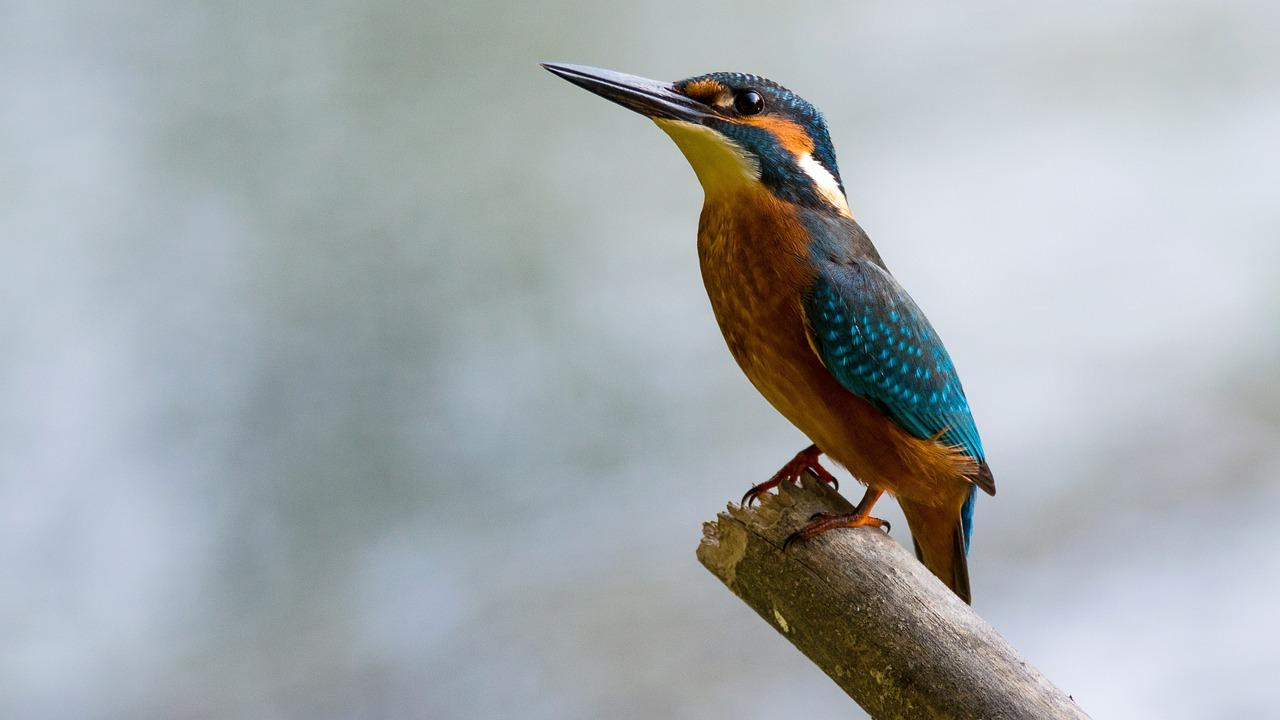bird: (542, 63, 993, 603)
